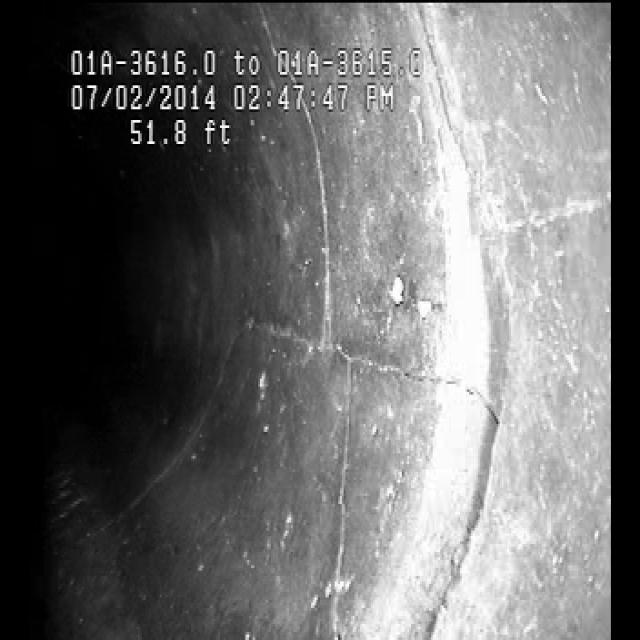Crack: (262, 296, 468, 432)
